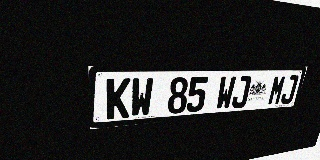5: (186, 77, 208, 113)
8: (167, 77, 190, 114)
J: (231, 76, 252, 109), (280, 75, 299, 104)
K: (106, 78, 131, 120)
M: (267, 75, 287, 106)
W: (130, 78, 154, 118), (215, 76, 236, 110)
